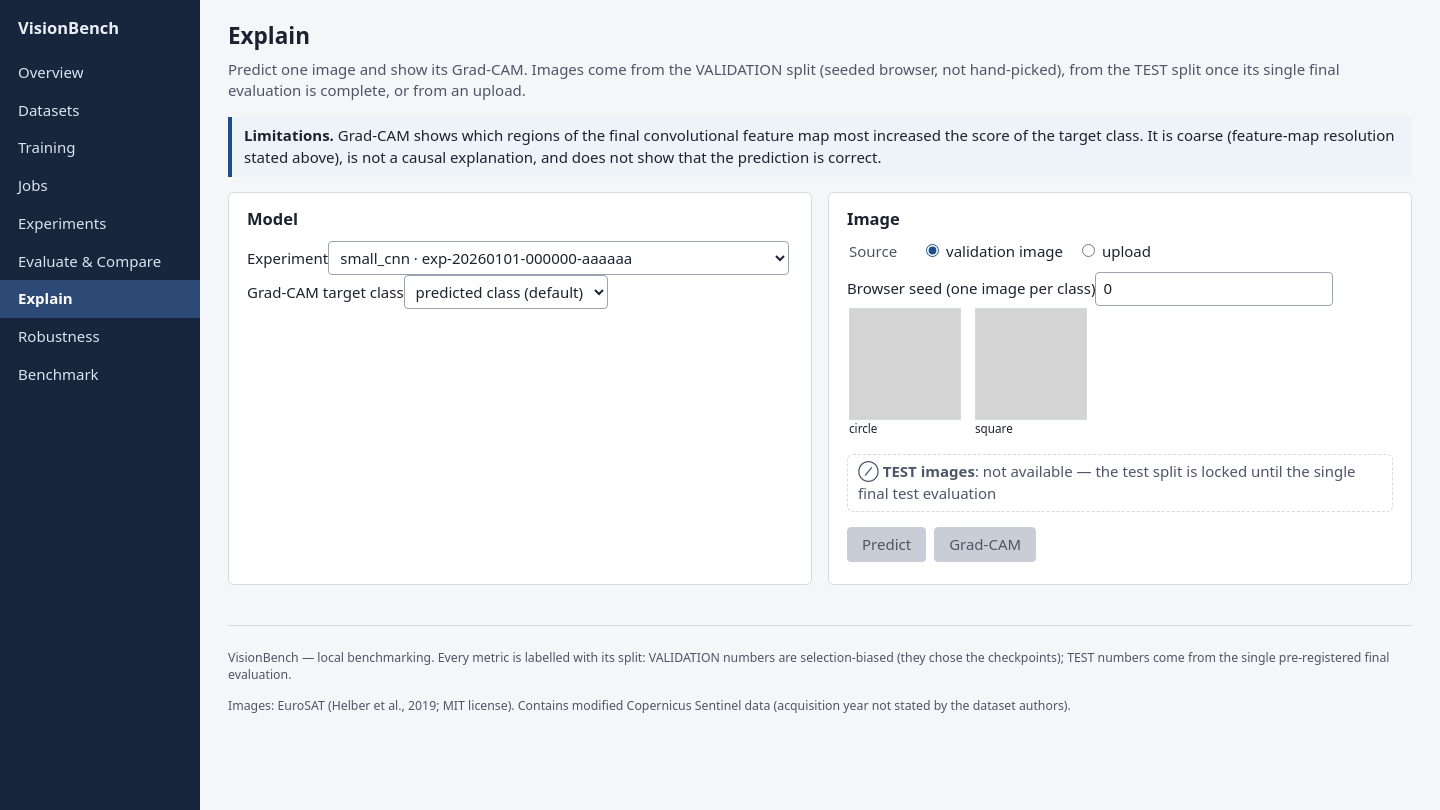
Explain › explains a test_split_locked refusal
Click the button named "circle: circle/c1.png" at (905, 372), box [847,306,963,439]
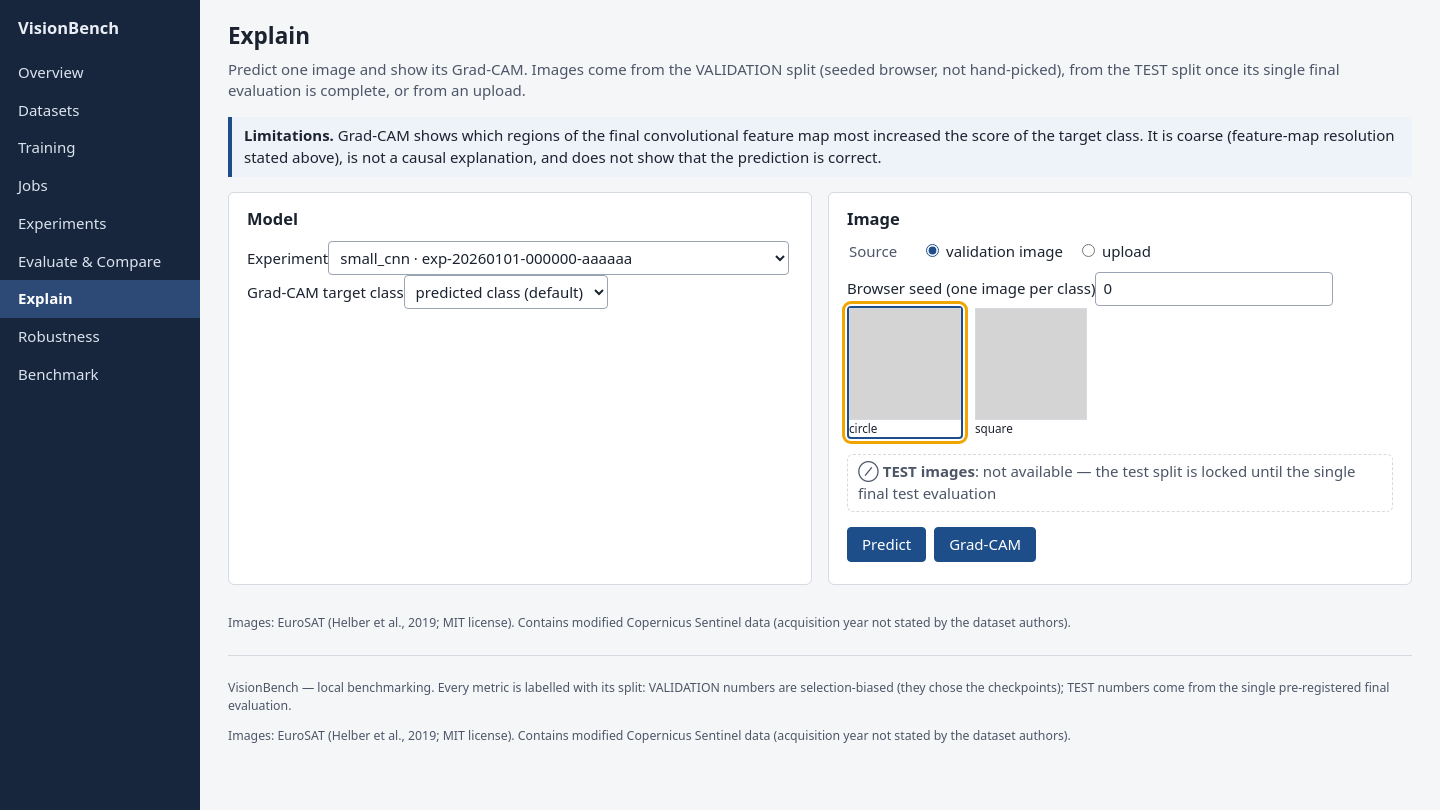
Click the button "Predict" at (887, 544), box [847,526,926,562]
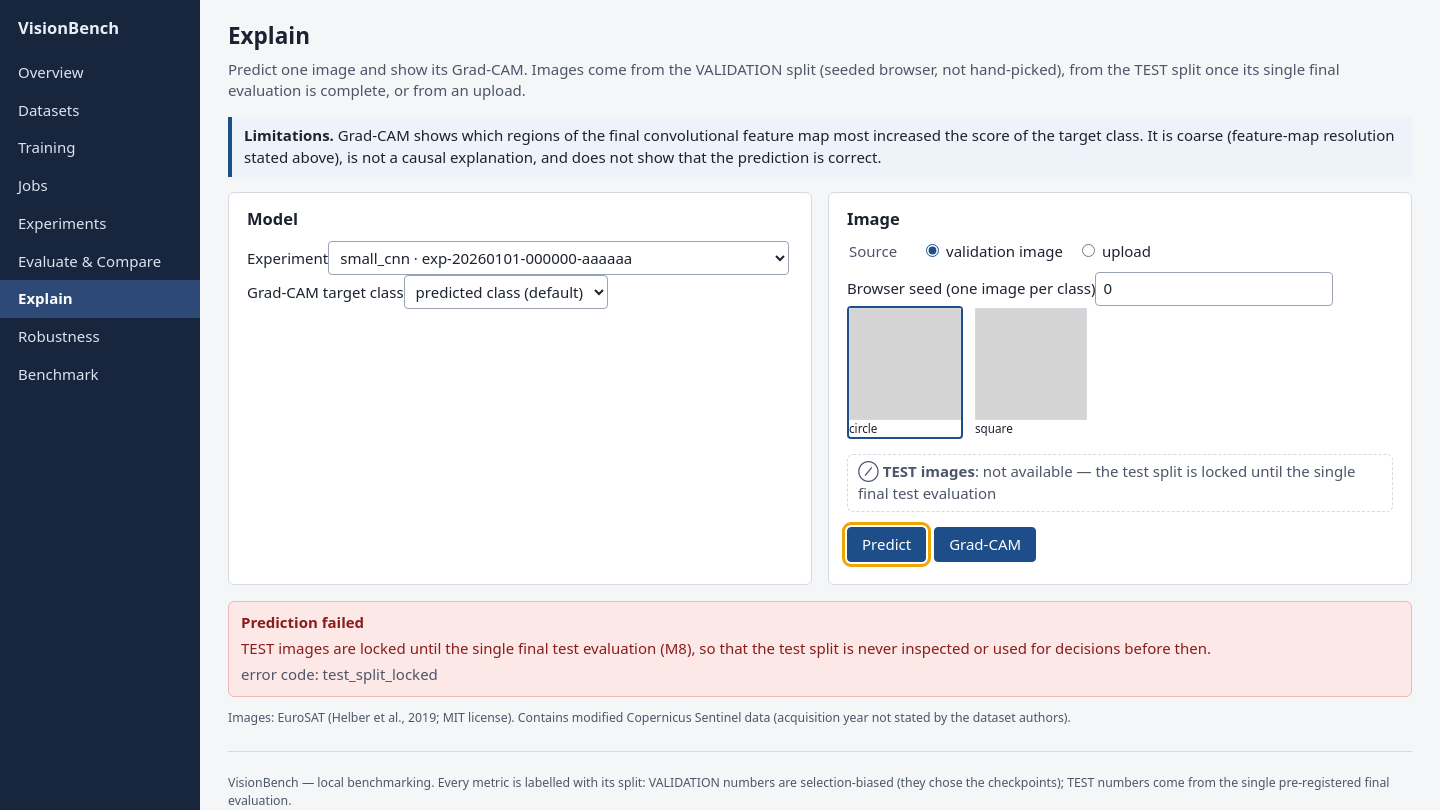
Check: the text "TEST images are locked until the single final test evaluation" is shown, box [241,638,1211,658]
